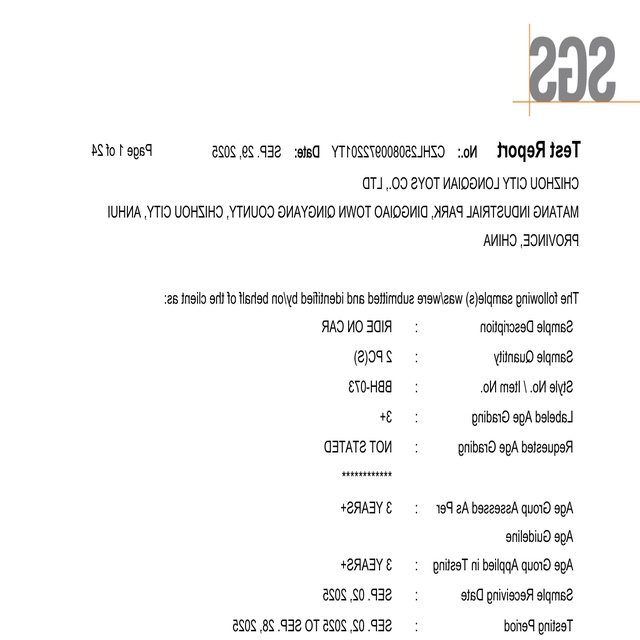sgs: (529, 36, 614, 101)
